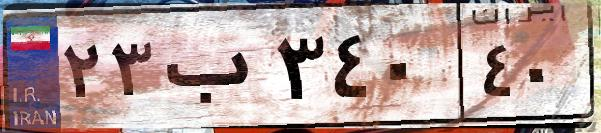0: (385, 28, 445, 110), (525, 38, 570, 115)
2: (57, 26, 110, 100)
3: (270, 28, 330, 110), (110, 28, 158, 98)
4: (330, 28, 385, 110), (475, 38, 525, 113)
ب: (158, 20, 270, 120)
